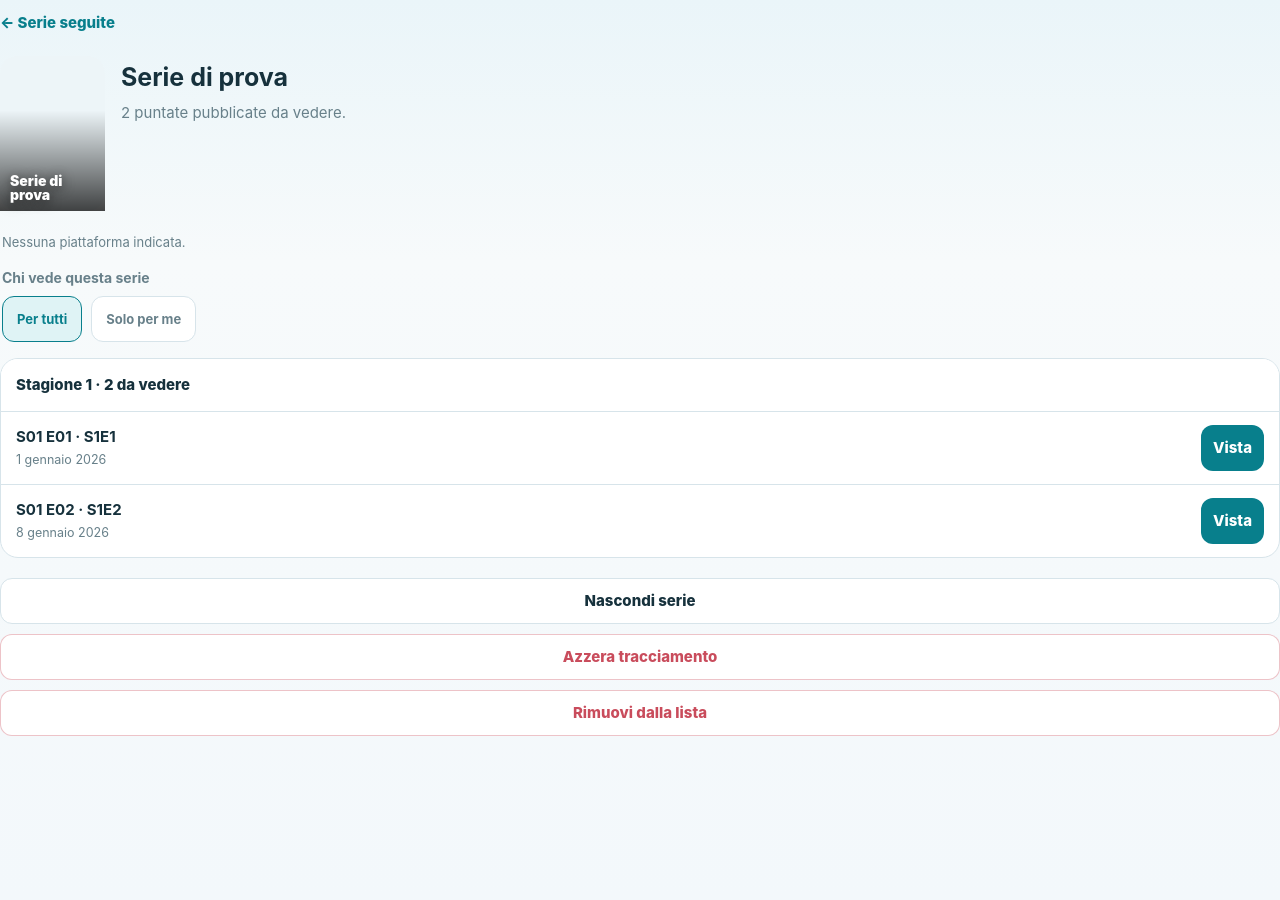
ShowDetailView — criterio 7, rimozione con conferma rossa › la conferma di eliminazione è visivamente rossa
The width and height of the screenshot is (1280, 900).
Click the button with class "danger" at (640, 713), box [0, 690, 1279, 736]
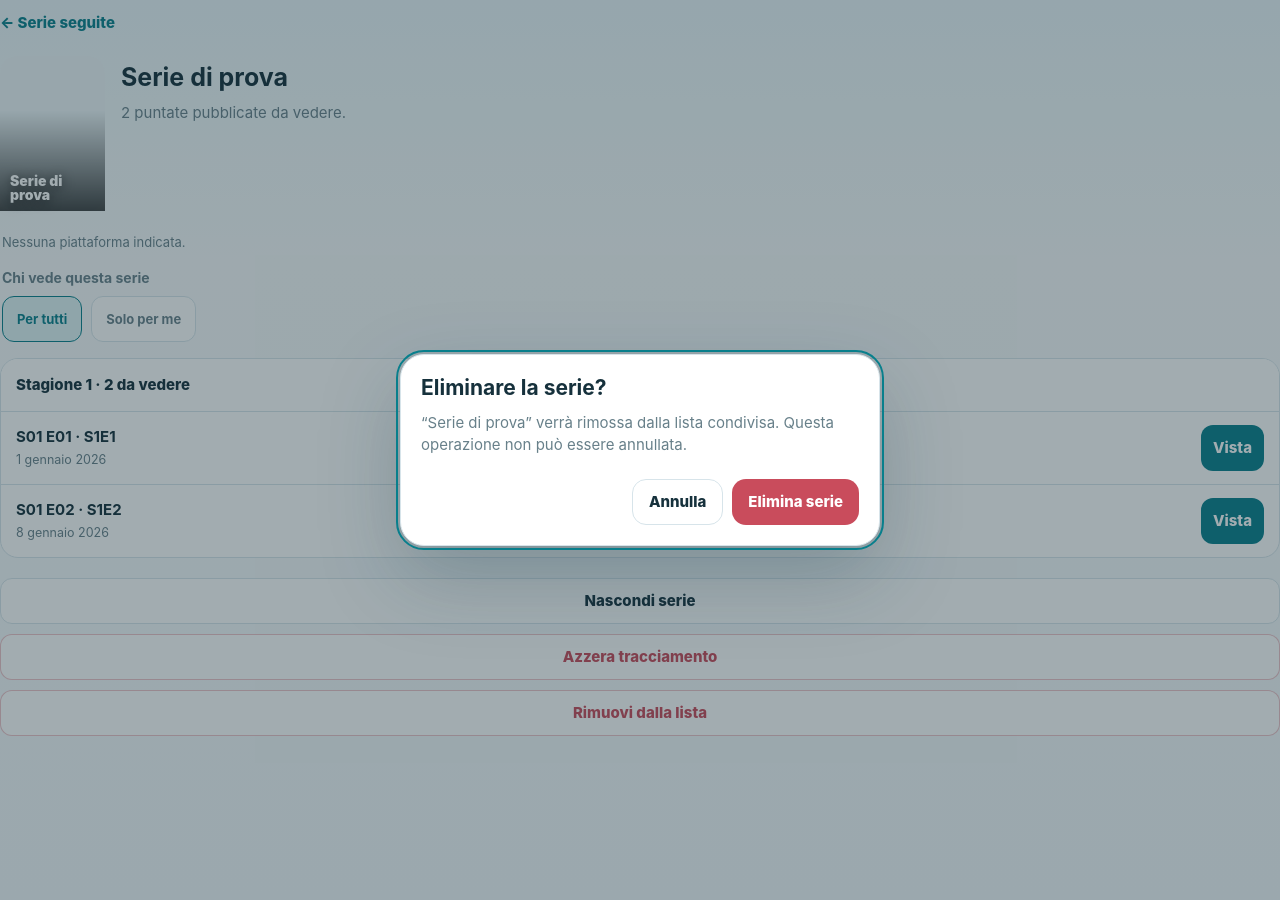
Now the button with class "accept-confirm--danger" is shown, box [732, 479, 859, 525]
